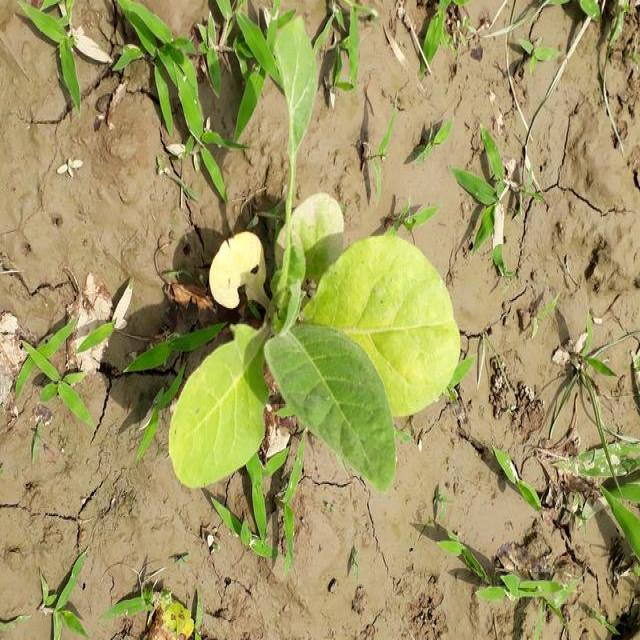crop: (168, 218, 463, 509)
